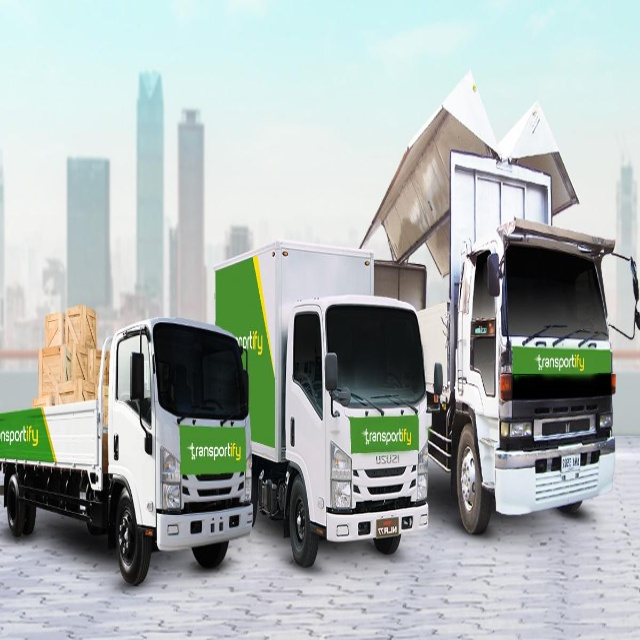Truck: (214, 238, 441, 567), (417, 218, 640, 538), (1, 317, 252, 586)
